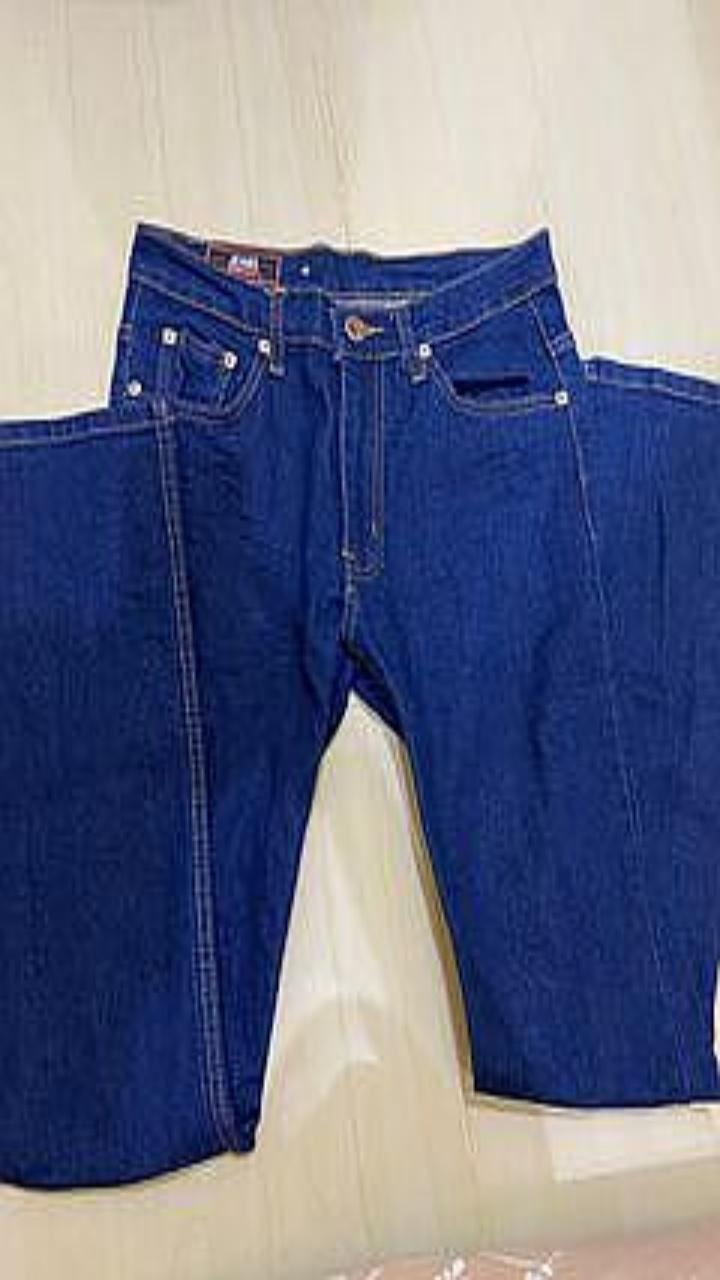Shorts: (0, 223, 719, 1186)
